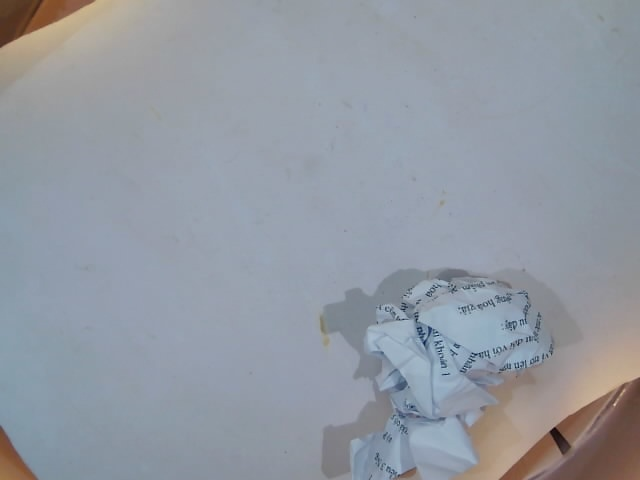paper: (304, 264, 566, 479)
